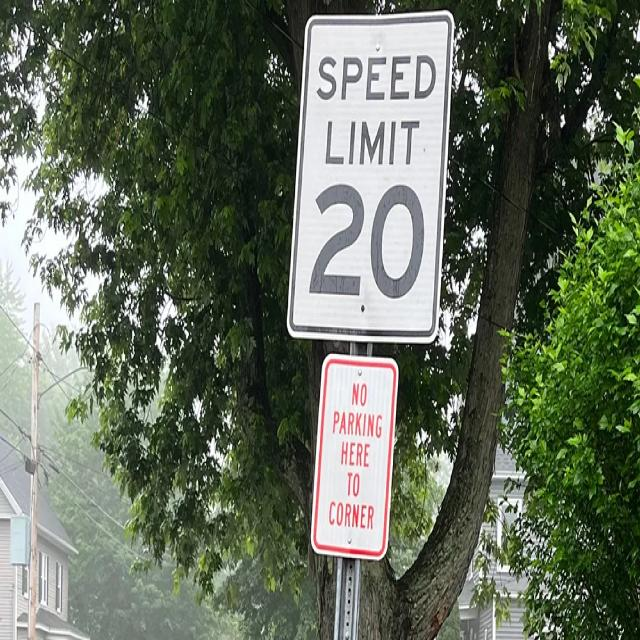Speed Limit Signs: (284, 11, 456, 347)
